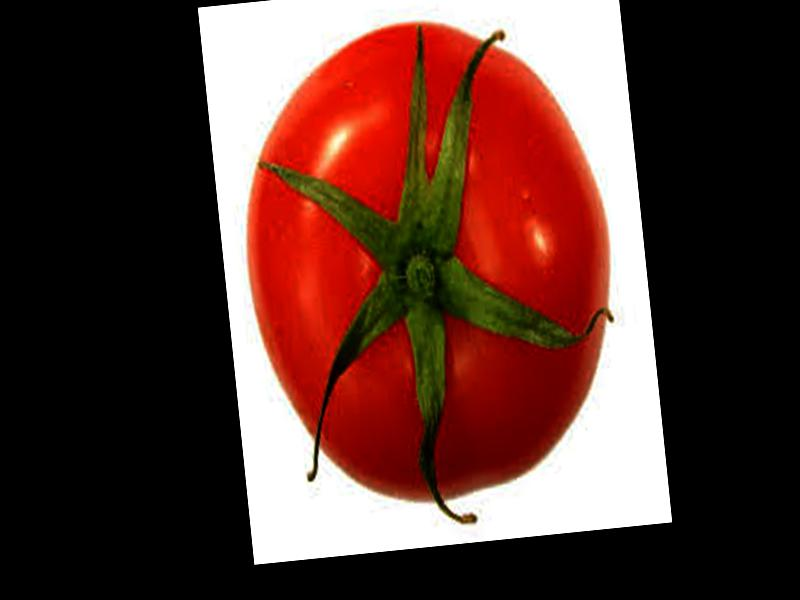Tomato: (225, 3, 630, 517)
